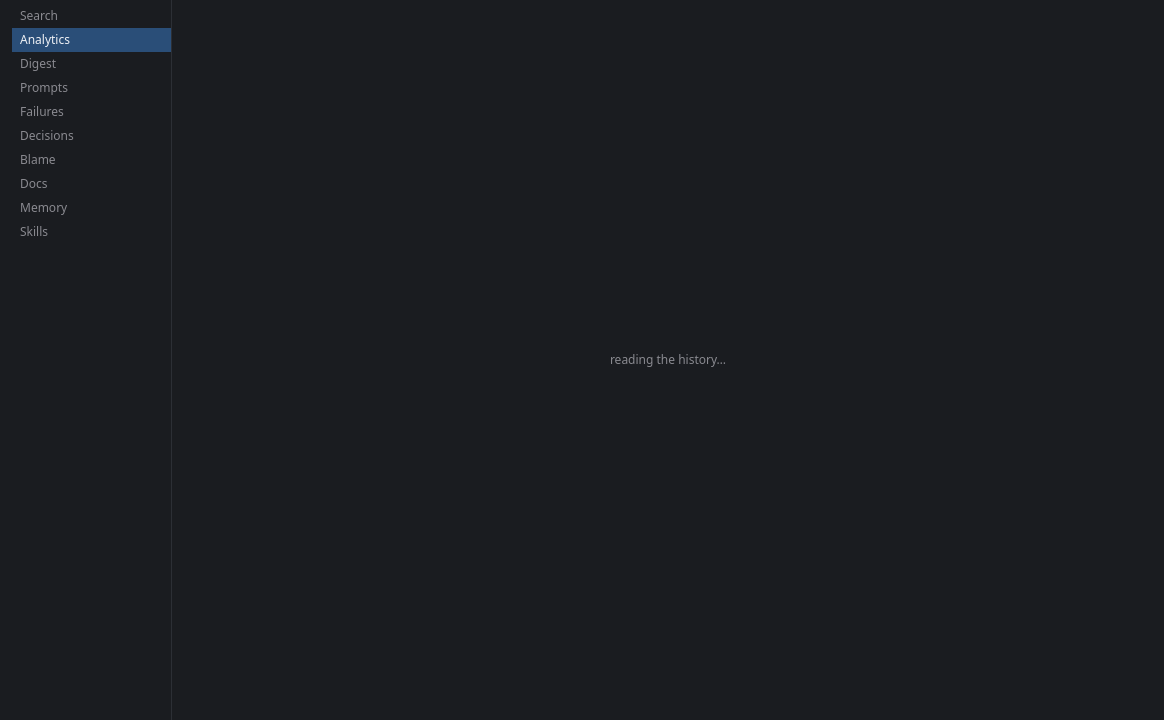
the similar list › shows the model and when it was built, beside the grep results
The width and height of the screenshot is (1164, 720).
What coordinates should you click on to do the following:
click the button "Search"
I would click on:
 (92, 16)
Its box is [12, 4, 171, 28].
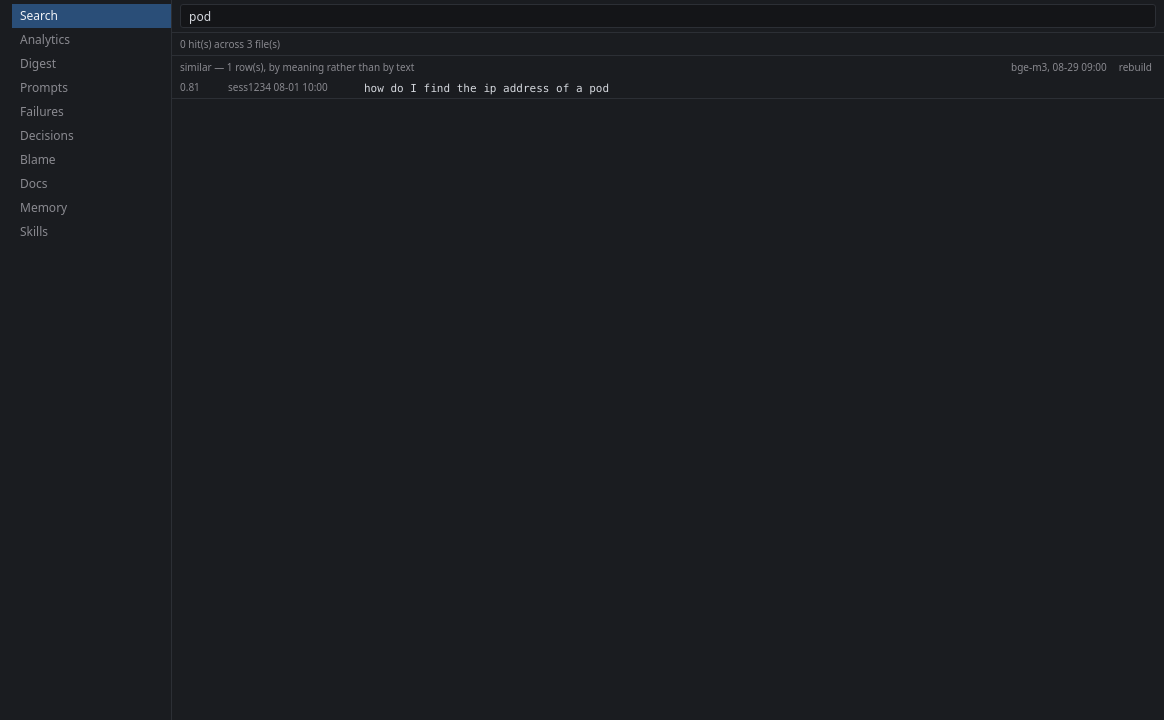
Expected: the text "bge-m3, 08-29 09:00" is shown, [1011, 60, 1107, 74]
Expected: the text "similar — 1 row(s), by meaning rather than by text" is shown, [180, 60, 414, 74]
Expected: the text "how do I find the ip address of a pod" is shown, [364, 81, 609, 95]
